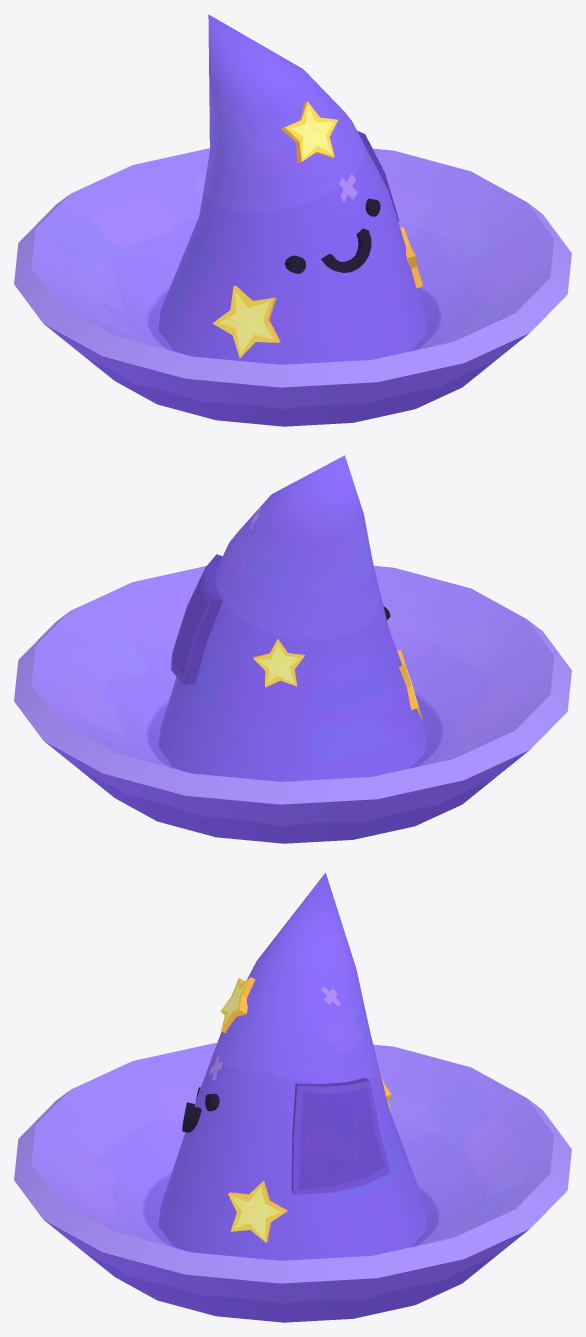
3 views of the same model, one above another, from view 1: azimuth 30°, elevation 25°; view 2: azimuth 150°, elevation 25°; view 3: azimuth 270°, elevation 25° (orthographic).
Parts seen in each view (by area): view 1: Cylinder001_1, Star003_4, Star003 (1)_5, Cylinder005_11; view 2: Cylinder001_1, Hat_0, Star002_3; view 3: Cylinder001_1, Hat_0, Star003 (2)_6, Star003 (1)_5.
Boxes of the visible parts, x1,y1,x2,y2 form: Cylinder001_1: [14, 14, 571, 426]; Star003_4: [212, 285, 280, 358]; Star003 (1)_5: [281, 101, 337, 162]; Cylinder005_11: [321, 228, 371, 272]; Cylinder001_1: [14, 455, 571, 843]; Hat_0: [171, 554, 222, 684]; Star002_3: [253, 639, 304, 687]; Cylinder001_1: [14, 872, 571, 1322]; Hat_0: [291, 1078, 390, 1194]; Star003 (2)_6: [228, 1181, 287, 1242]; Star003 (1)_5: [220, 977, 255, 1033].
Size of the model in its own units: 97.24 by 63.41 by 96.51.
1 material, 1 textured.
